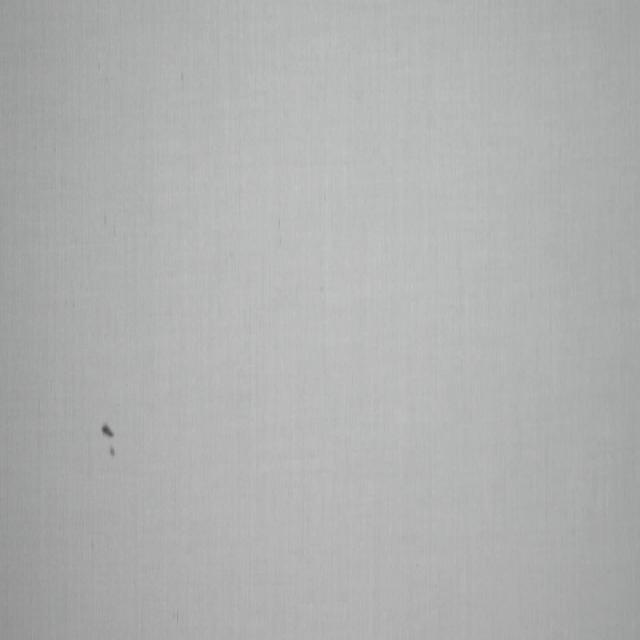dirty: (102, 424, 115, 458)
